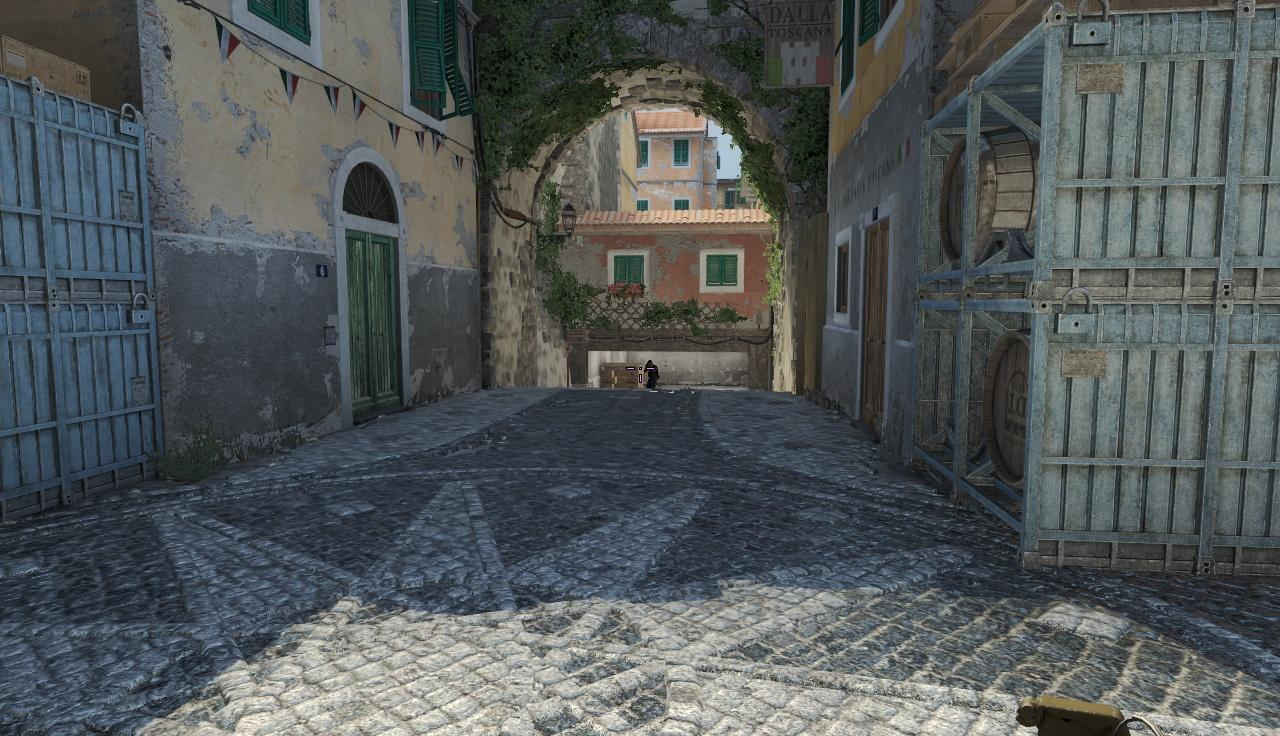ct: (640, 360, 659, 389)
cthead: (645, 360, 654, 369)
pistol: (1002, 695, 1220, 736), (1005, 694, 1217, 736)
